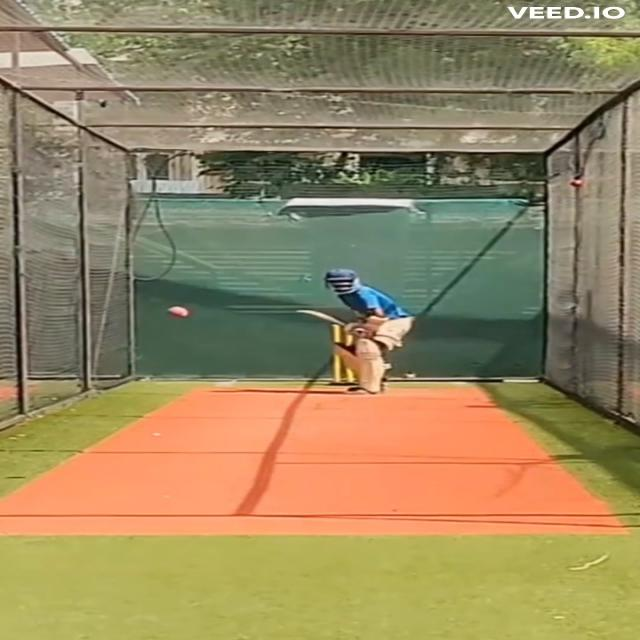ball: (164, 304, 190, 320)
stump: (329, 322, 358, 387)
